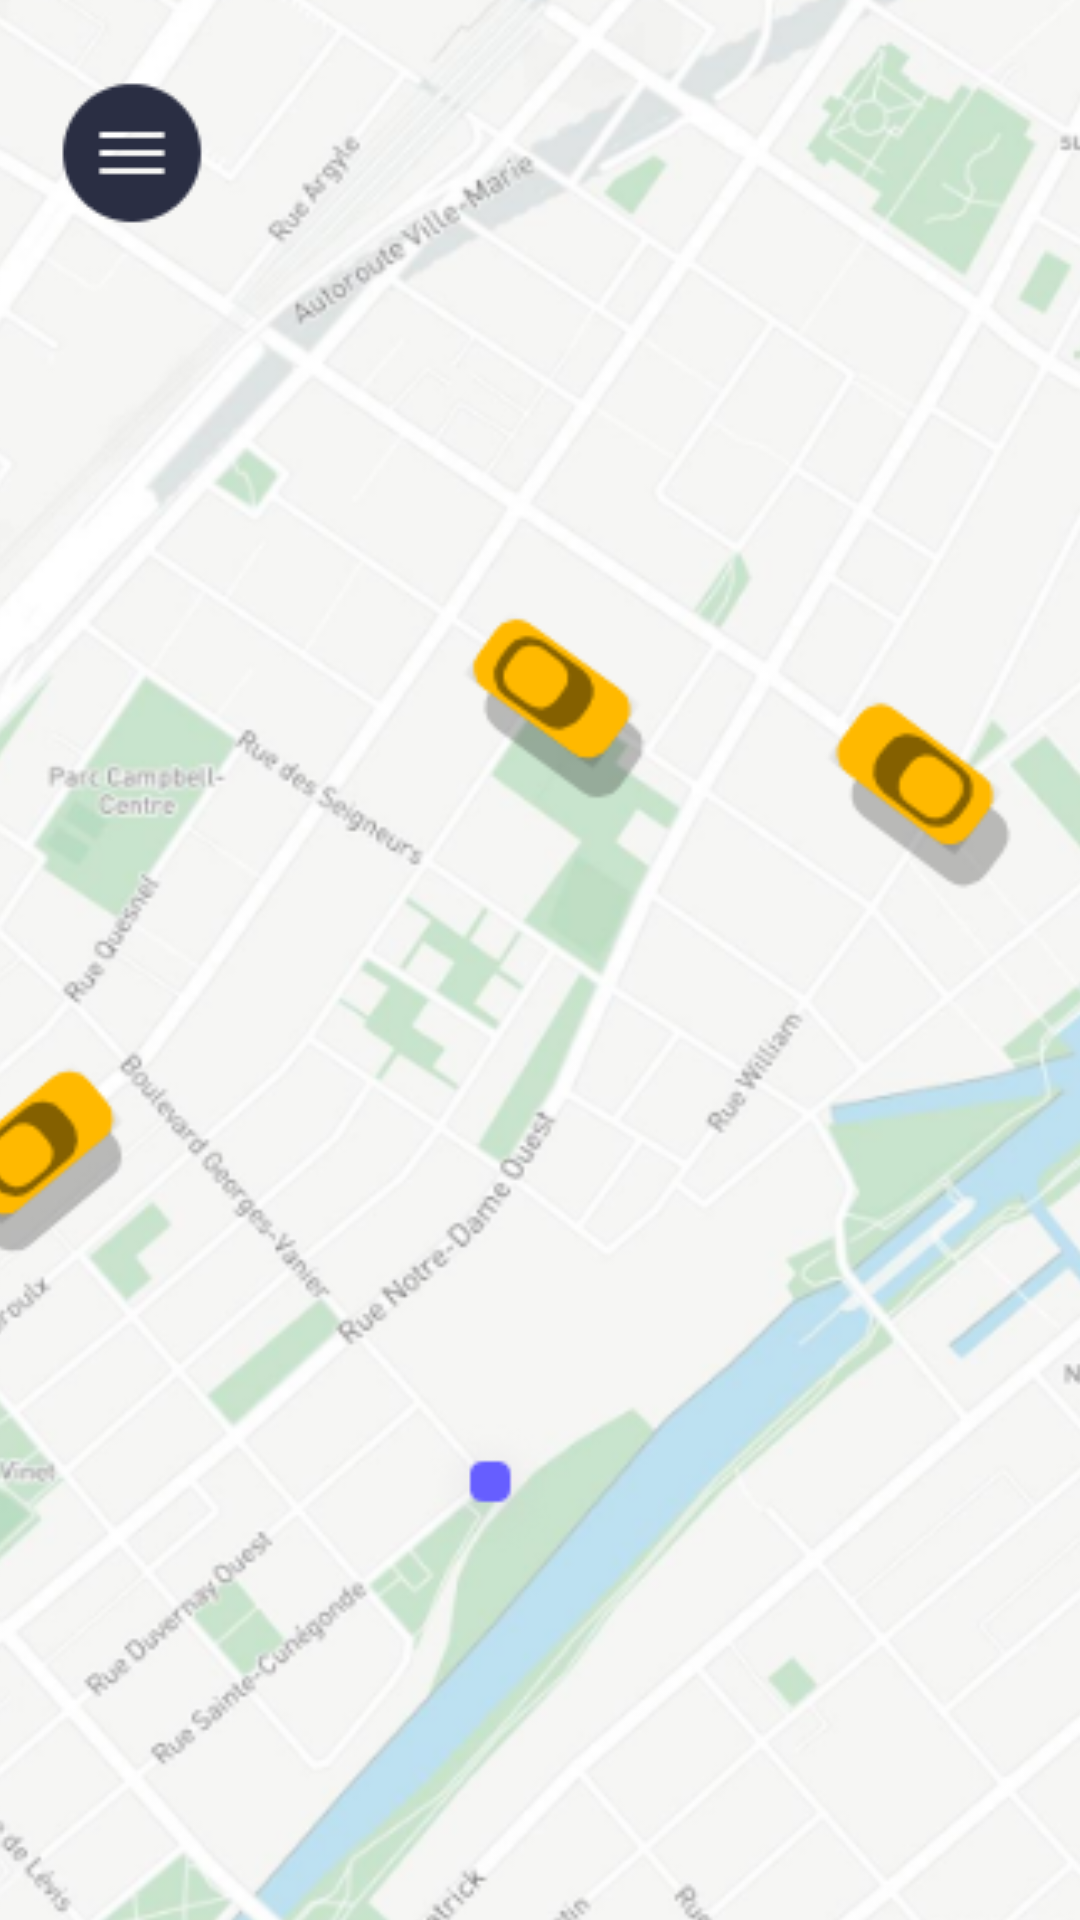

Icons on this 1080*1920 Android screen, each with its box as (x1, y1, x2, y2):
menu: (62, 83, 202, 223)
